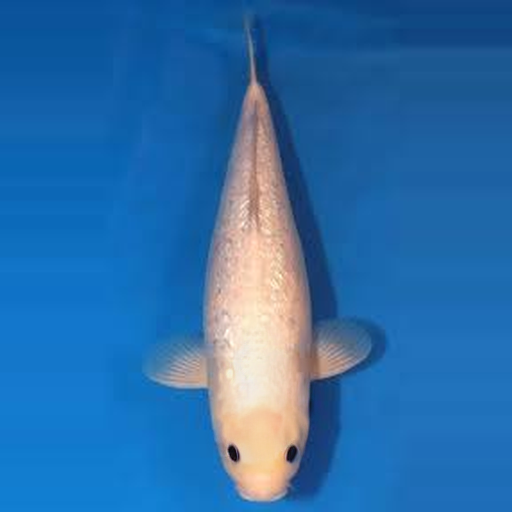white: (144, 5, 375, 502)
